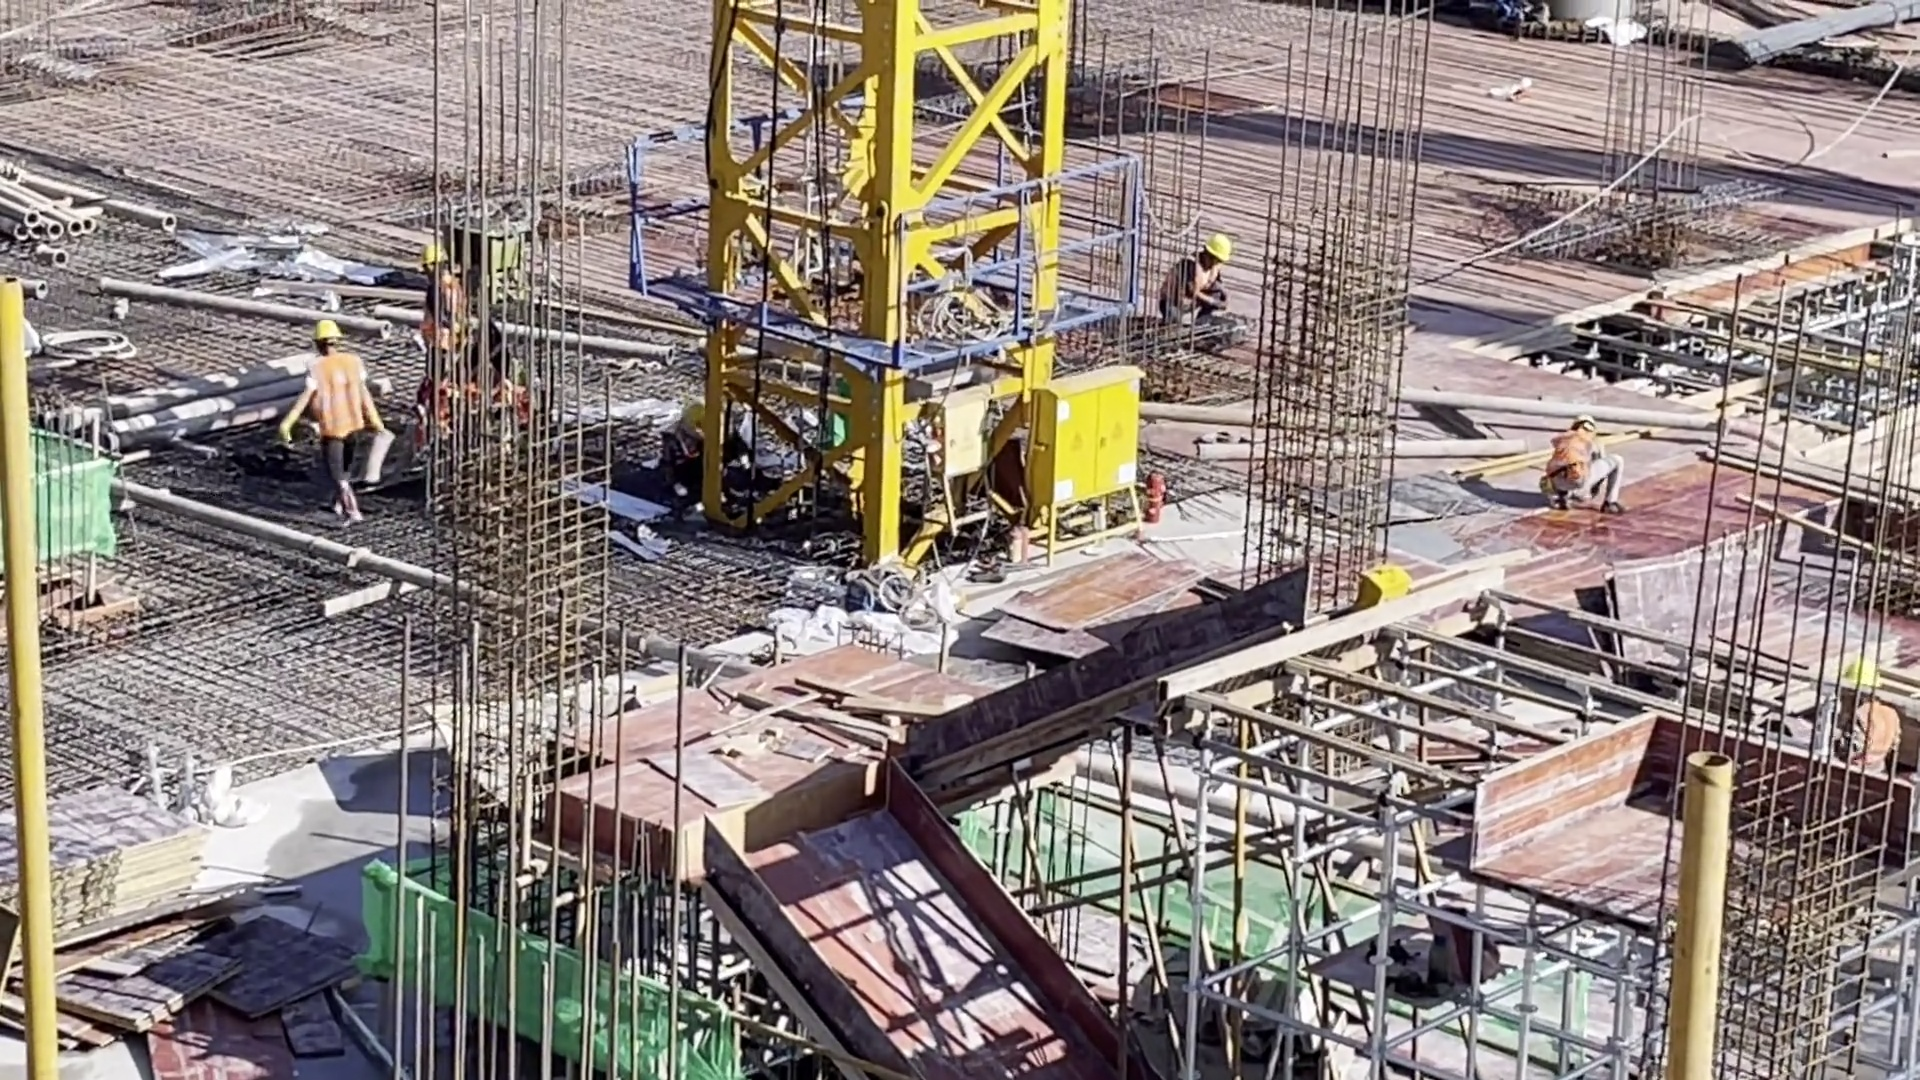board: (61, 881, 348, 1080), (49, 774, 226, 941)
ebox: (1025, 348, 1148, 550), (928, 382, 992, 549), (1351, 563, 1415, 611)
helmet: (1195, 227, 1234, 262), (1837, 651, 1881, 683), (306, 317, 350, 339)
person: (289, 317, 395, 533), (1837, 646, 1914, 778), (407, 221, 467, 362), (1154, 229, 1233, 332), (1538, 413, 1624, 502), (645, 394, 707, 508)
rebar: (1702, 1, 1920, 86)
vest: (1838, 693, 1907, 769), (314, 353, 366, 439), (1162, 252, 1219, 320), (1546, 437, 1593, 496)
